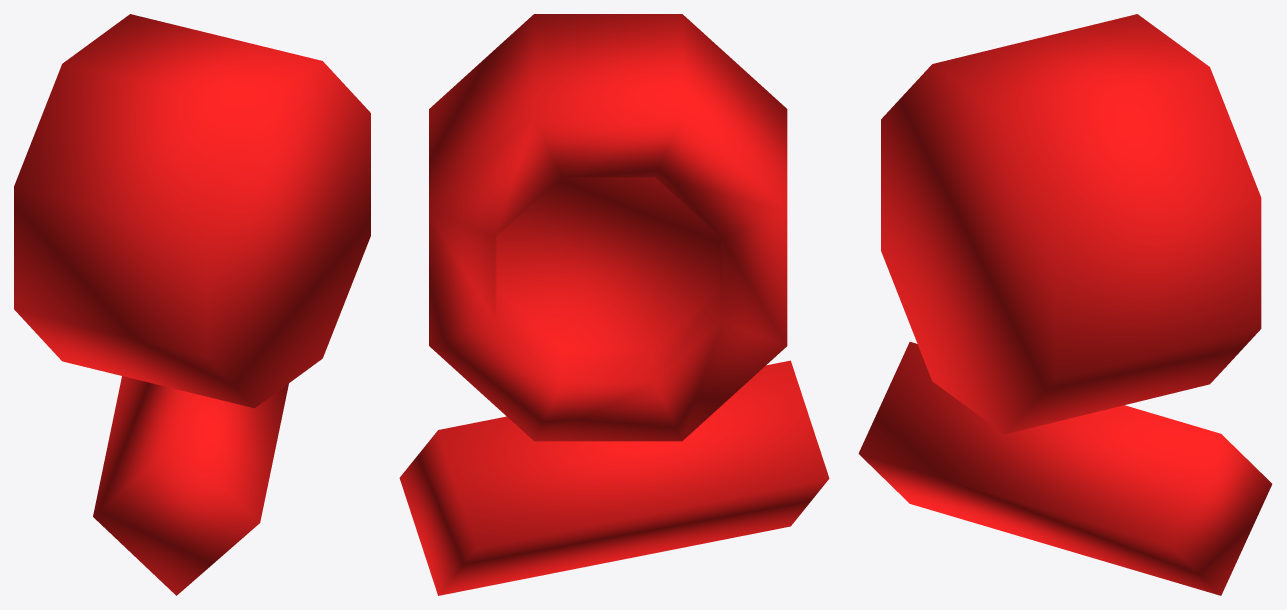
File: Rubble01.FBX
The picture shows the model from 3 angles, left to right: view 1: azimuth 30°, elevation 25°; view 2: azimuth 150°, elevation 25°; view 3: azimuth 270°, elevation 25°; orthographic projection. The views are drawn at different scales.
Parts seen in each view (by area): view 1: 00_shild_01_013; view 2: 00_shild_01_013; view 3: 00_shild_01_013.
Boxes of the visible parts, x1=… form: 00_shild_01_013: x1=14, y1=14, x2=370, y2=595; 00_shild_01_013: x1=399, y1=14, x2=829, y2=595; 00_shild_01_013: x1=858, y1=14, x2=1272, y2=595.
Bounding box in the file's own units: 13.92 × 17.7 × 13.67.
Materials: 1 (1 with a texture image).
